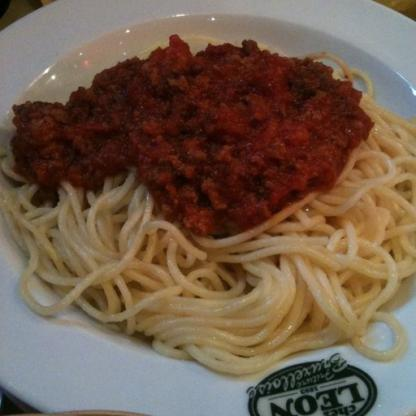pasta: (0, 35, 415, 366)
